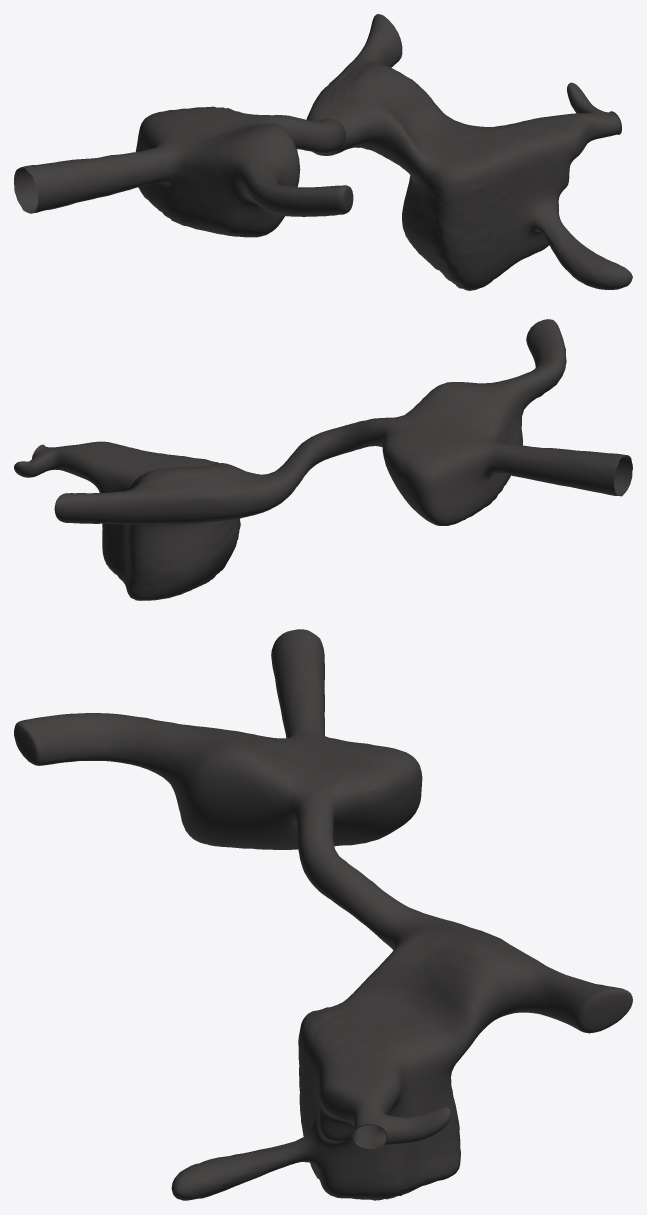
File: CaveP4.fbx
The picture shows the model from 3 angles, top to bottom: view 1: azimuth 30°, elevation 25°; view 2: azimuth 150°, elevation 25°; view 3: azimuth 270°, elevation 25°; orthographic projection. The views are drawn at different scales.
Visible parts, largest first — view 1: CaveP4; view 2: CaveP4; view 3: CaveP4.
Part boxes in pixels (bbox=[...]): CaveP4: bbox=[14, 14, 632, 290]; CaveP4: bbox=[14, 319, 632, 600]; CaveP4: bbox=[14, 629, 632, 1200].
Size of the model in its own units: 12282 by 4934 by 8967.
